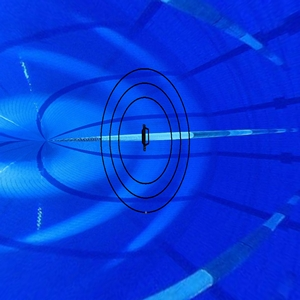circle: (98, 64, 193, 217)
submarine: (138, 121, 155, 157)
